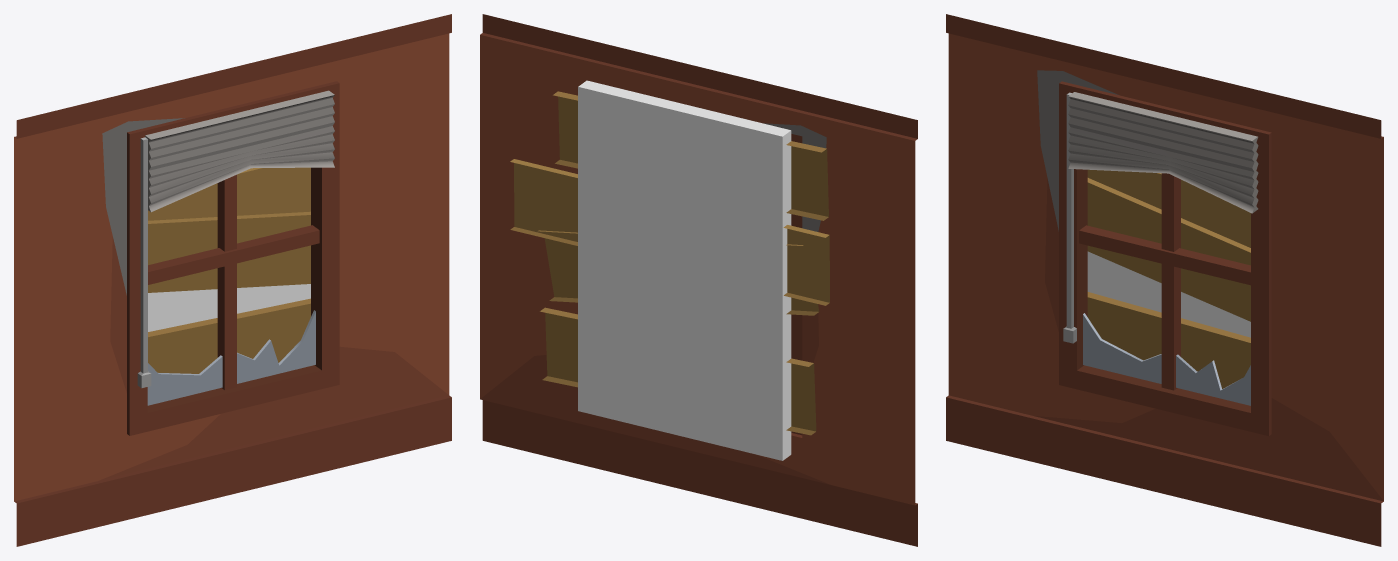
File: AI_Env_Wall_Red_Window_01_Blinds.fbx
3 renders of one model, left to right at view 1: azimuth 30°, elevation 25°; view 2: azimuth 150°, elevation 25°; view 3: azimuth 330°, elevation 25°, orthographic.
Parts seen in each view (by area): view 1: AI_Env_Wall_Red_Window_01_Blinds; view 2: AI_Env_Wall_Red_Window_01_Blinds; view 3: AI_Env_Wall_Red_Window_01_Blinds.
Part boxes in pixels (left/top/right/bottom): AI_Env_Wall_Red_Window_01_Blinds: left=14, top=14, right=451, bottom=546; AI_Env_Wall_Red_Window_01_Blinds: left=480, top=14, right=917, bottom=546; AI_Env_Wall_Red_Window_01_Blinds: left=946, top=14, right=1383, bottom=546.
Size of the model in its own units: 5 by 4.69 by 0.5083.
